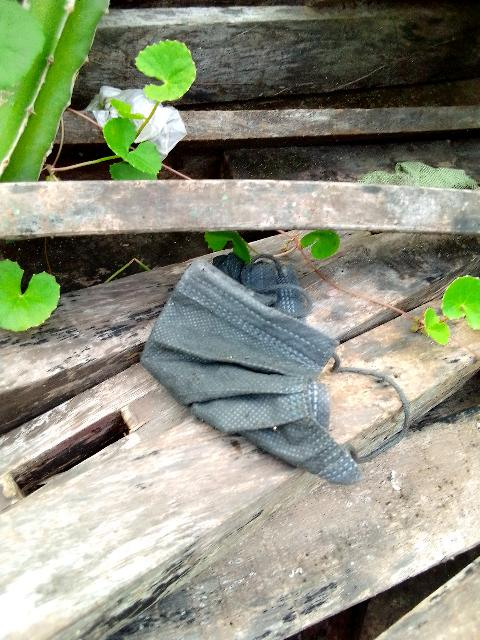mask: (164, 228, 350, 484)
